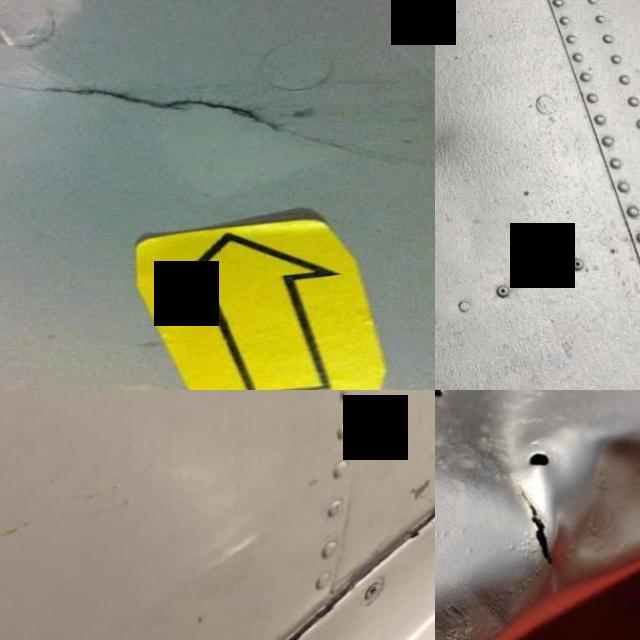Crack: (97, 452, 435, 640), (2, 49, 412, 180), (498, 473, 573, 594)
Dent: (516, 390, 640, 596), (435, 390, 597, 521), (435, 83, 495, 213)
